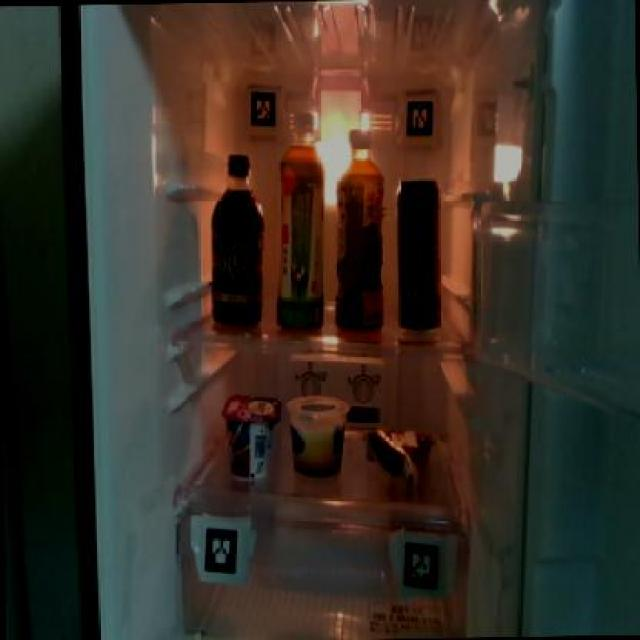coffee: (208, 151, 263, 324)
energy_drink: (390, 170, 442, 332)
pudding: (284, 390, 348, 481)
rice_ball: (362, 421, 436, 485)
tea_a: (332, 125, 386, 328)
tea_i: (276, 112, 326, 330)
yogurt: (222, 388, 281, 486)
